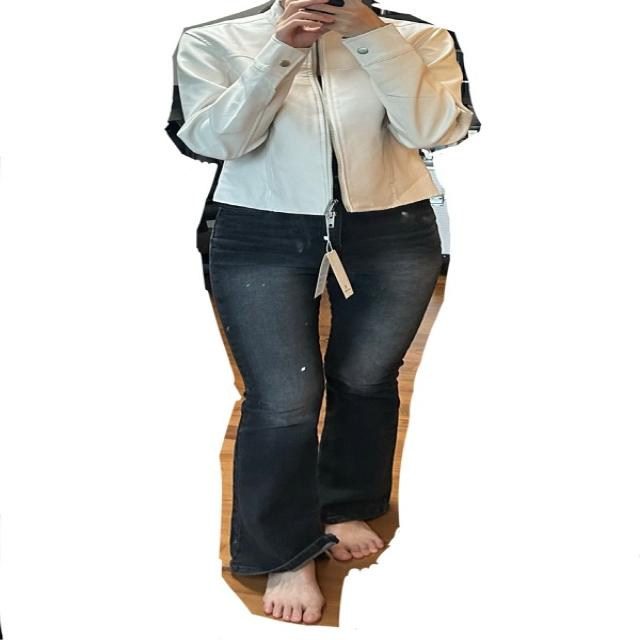denimpants: (207, 196, 441, 578)
shirt: (168, 0, 471, 217)
